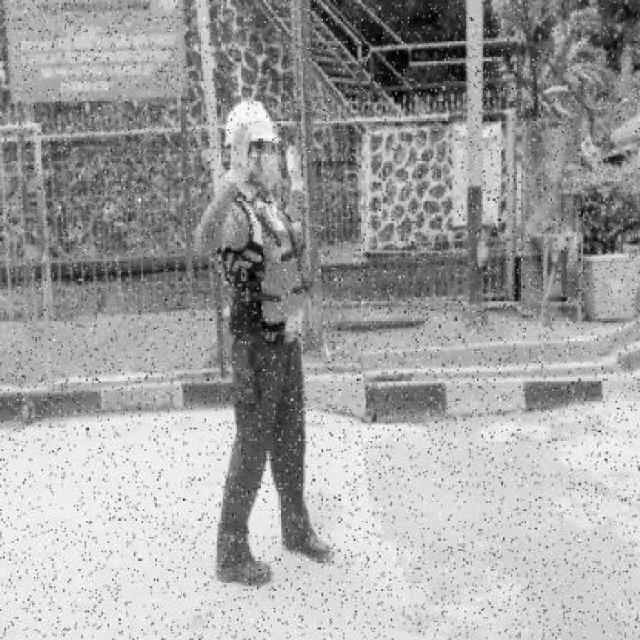Boots: (278, 525, 338, 566), (212, 552, 276, 588)
Gloves: (223, 121, 259, 188), (282, 143, 307, 194)
Helmet: (223, 99, 279, 144)
Mask: (258, 153, 280, 192)
Protective Glasses: (254, 142, 275, 156)
Vest: (258, 219, 318, 327)
